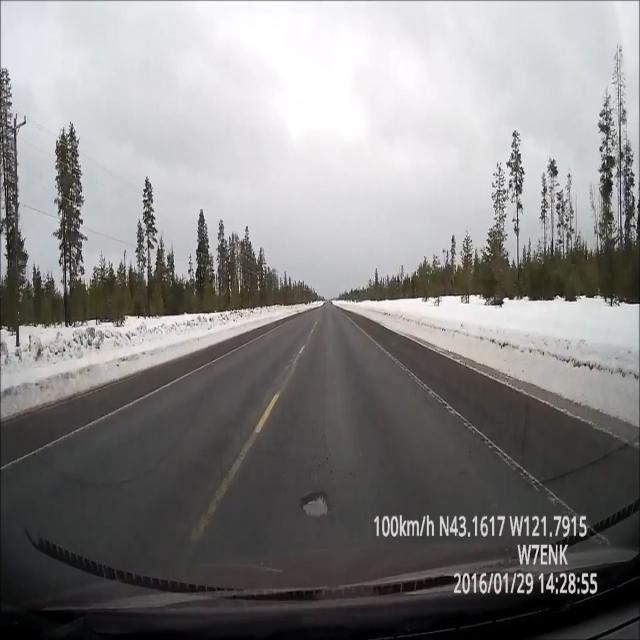Pothole: (298, 479, 336, 524)
